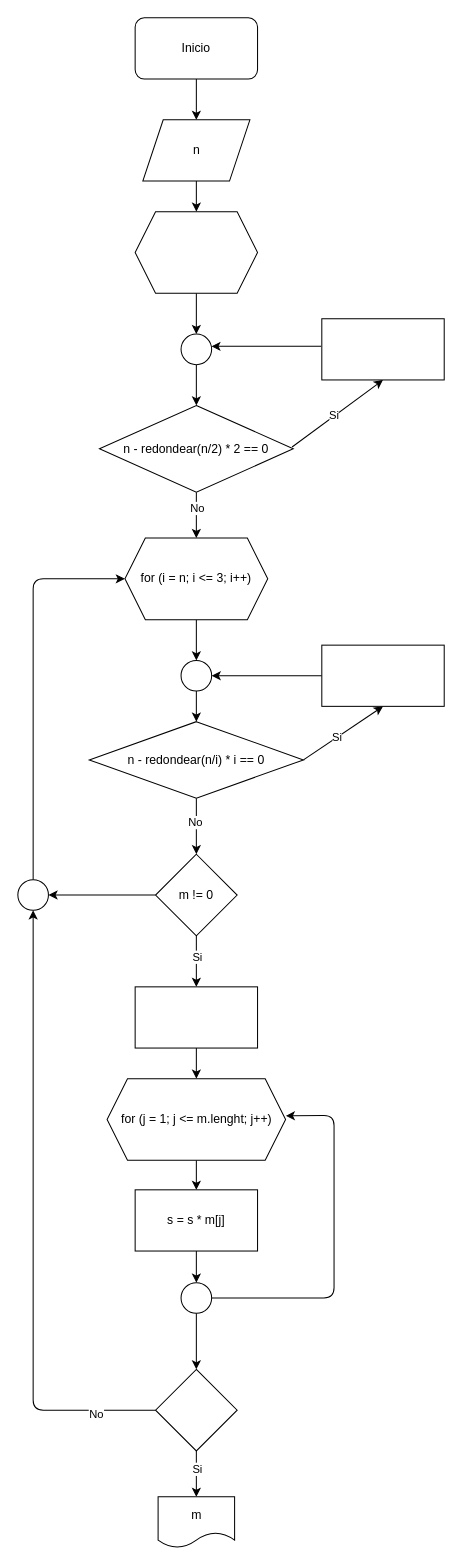
The diagram is 462 pixels wide and 1566 high, and some of its shapes have lost their labels. The centre of each missing label's shape, as x and y in pixels:
"b = n m = [] a = 1" belongs at (x=196, y=252).
"b = s" belongs at (x=196, y=1409).
"m[a] = 2 a += 1 n /= 2" belongs at (x=382, y=349).
"m[a] = 2 a += i n /= i" belongs at (x=382, y=675).
"s = 1" belongs at (x=196, y=1017).
